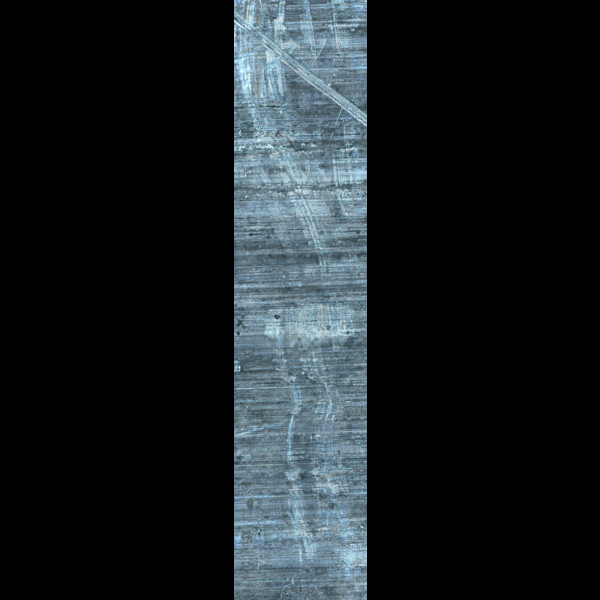d: (239, 4, 366, 134), (287, 302, 348, 570), (274, 137, 366, 273), (256, 295, 353, 359)
